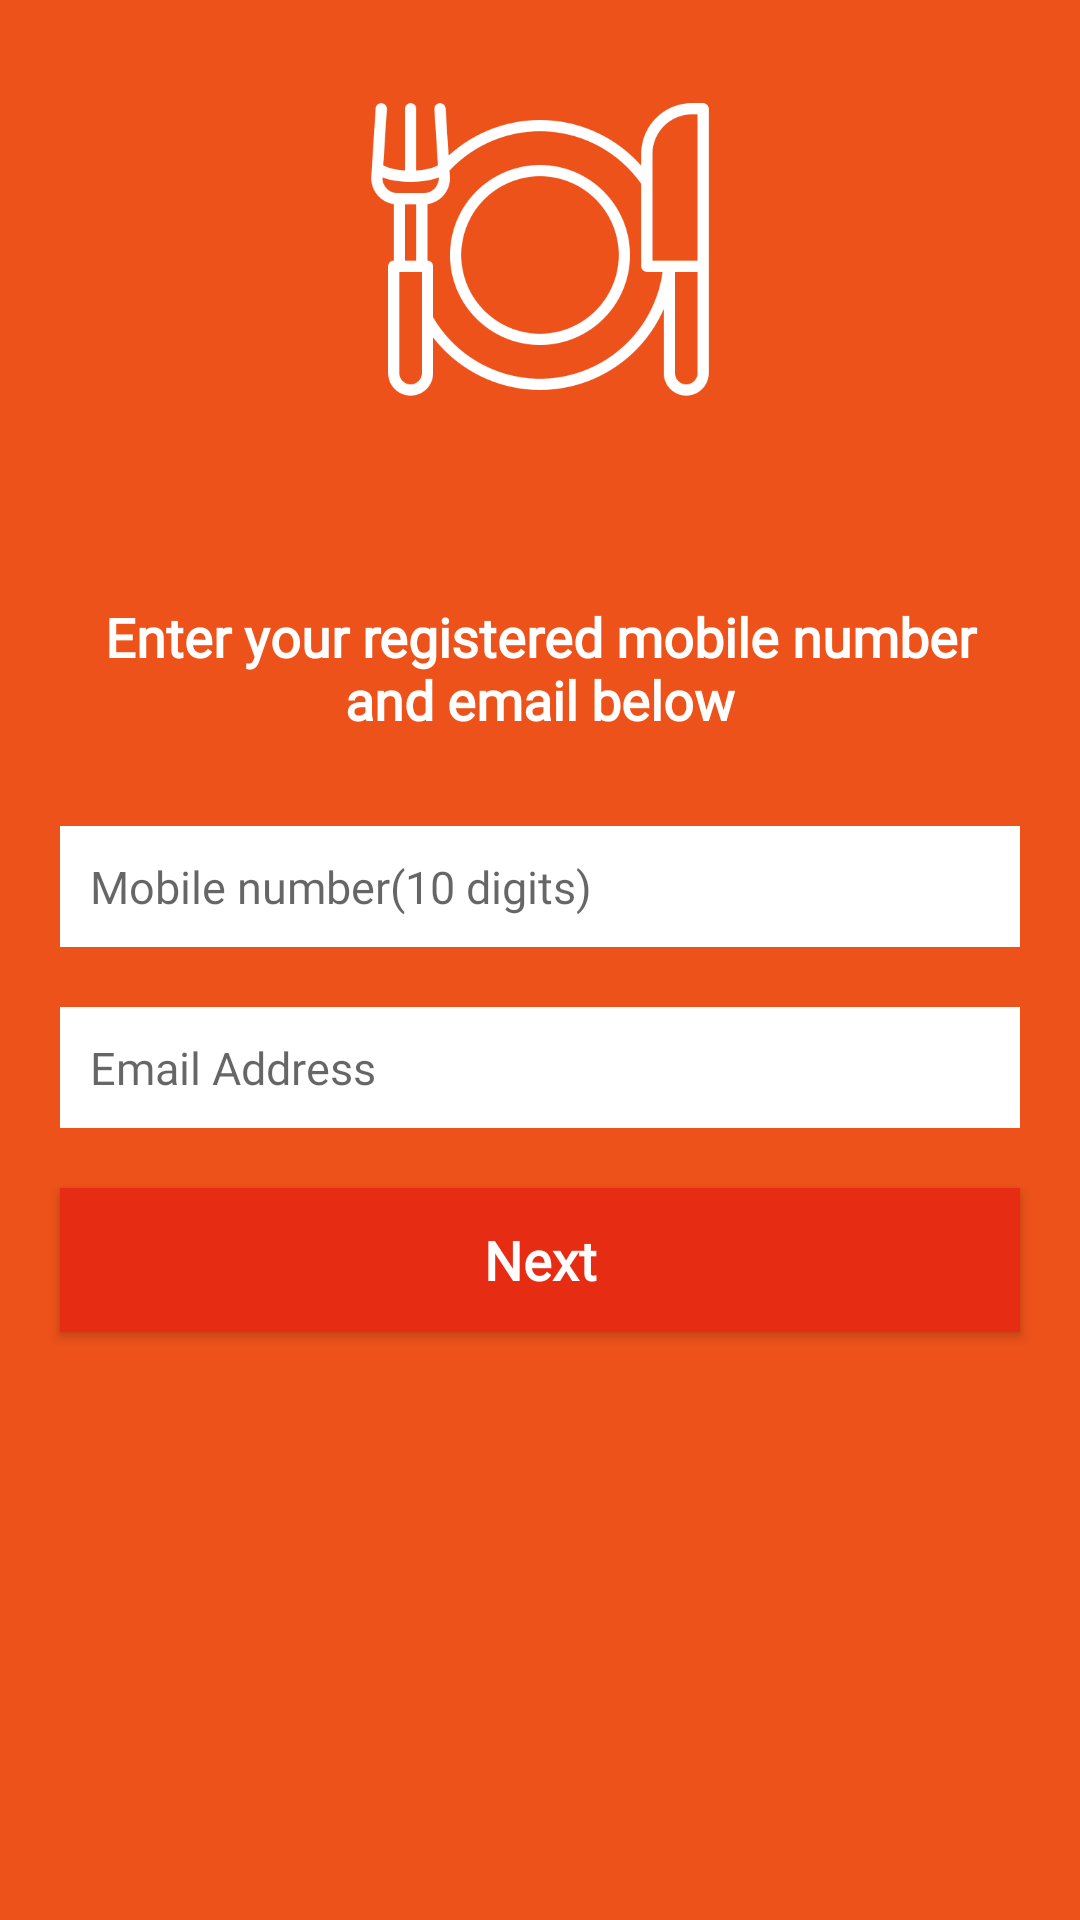

Icons on this 1080px x 1920px Android screen, each with the point to tap as [x,y]:
dinner: [540,249]
